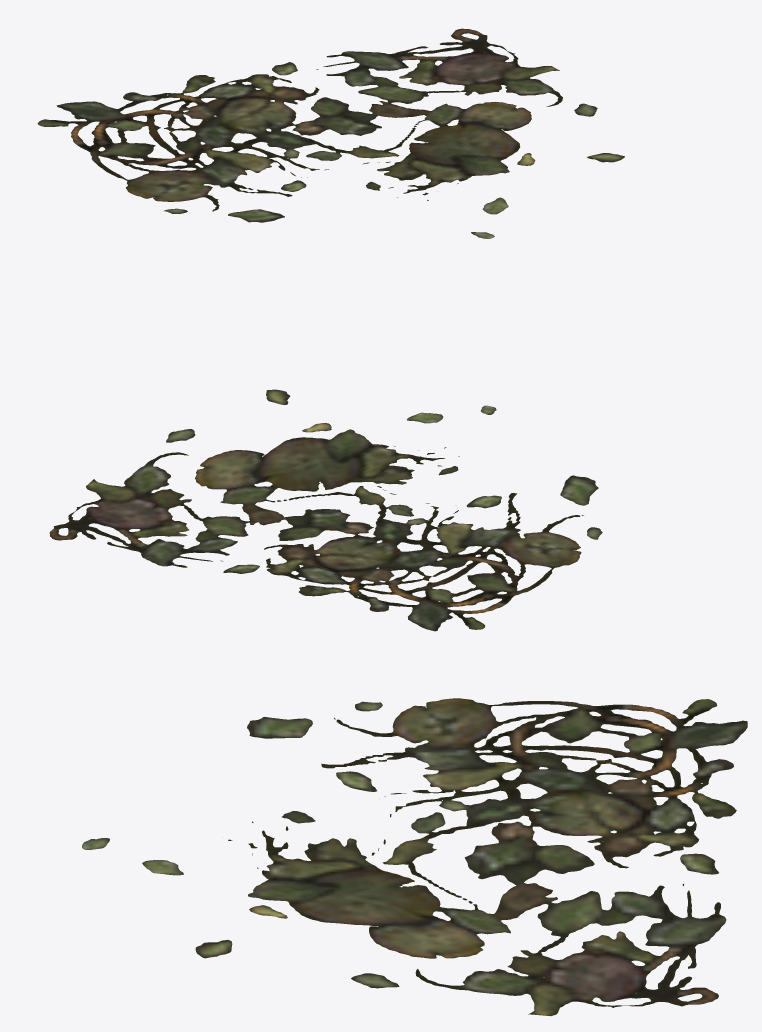
3 views of the same model, one above another, from view 1: azimuth 30°, elevation 25°; view 2: azimuth 150°, elevation 25°; view 3: azimuth 270°, elevation 25° (orthographic). The views are drawn at different scales.
Visible parts, largest first — view 1: wj19; view 2: wj19; view 3: wj19.
Boxes of the visible parts, x1=… form: wj19: x1=37, y1=28, x2=624, y2=238; wj19: x1=49, y1=389, x2=602, y2=631; wj19: x1=82, y1=698, x2=747, y2=1016.
Bounding box in the file's own units: 392 × 21.72 × 392.
1 material, 1 textured.
